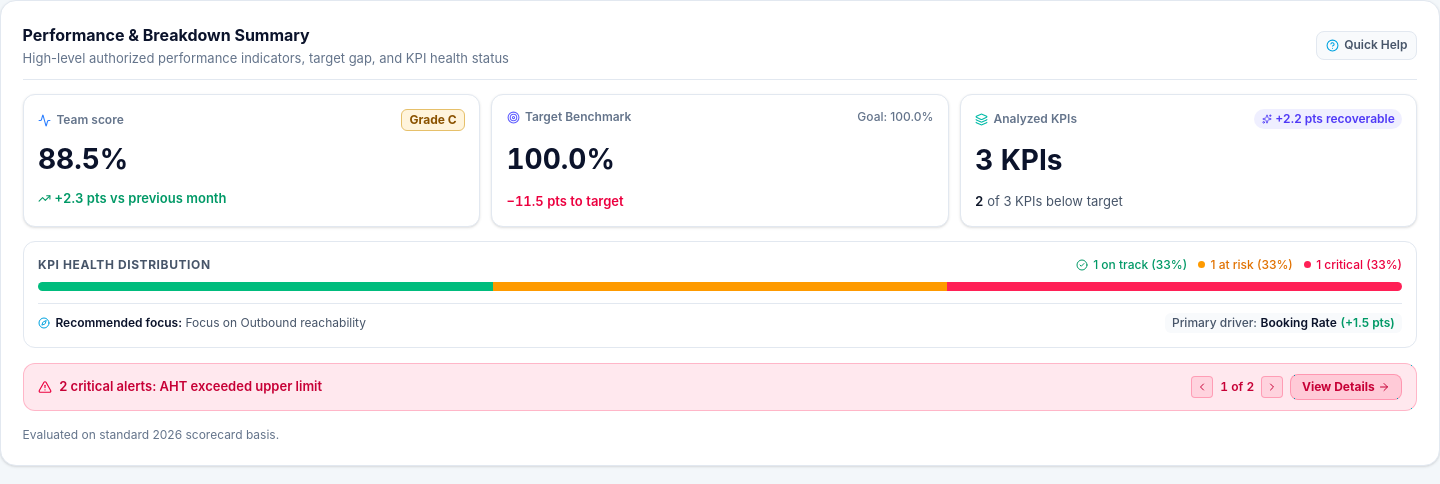
it: InsightsSummaryStrip (High-Level Performance & Breakdown Summary) › cycles through multiple critical alerts using next and previous buttons
The image size is (1440, 484).
Check: the text "2 critical alerts: AHT exceeded upper limit" is shown, box [59,378,322,394]
Check: the text "1 of 2" is shown, box [1220,379,1254,394]
// Click Next
Click the button named "Next alert".
click(1272, 387)  # box [1261,376,1283,398]
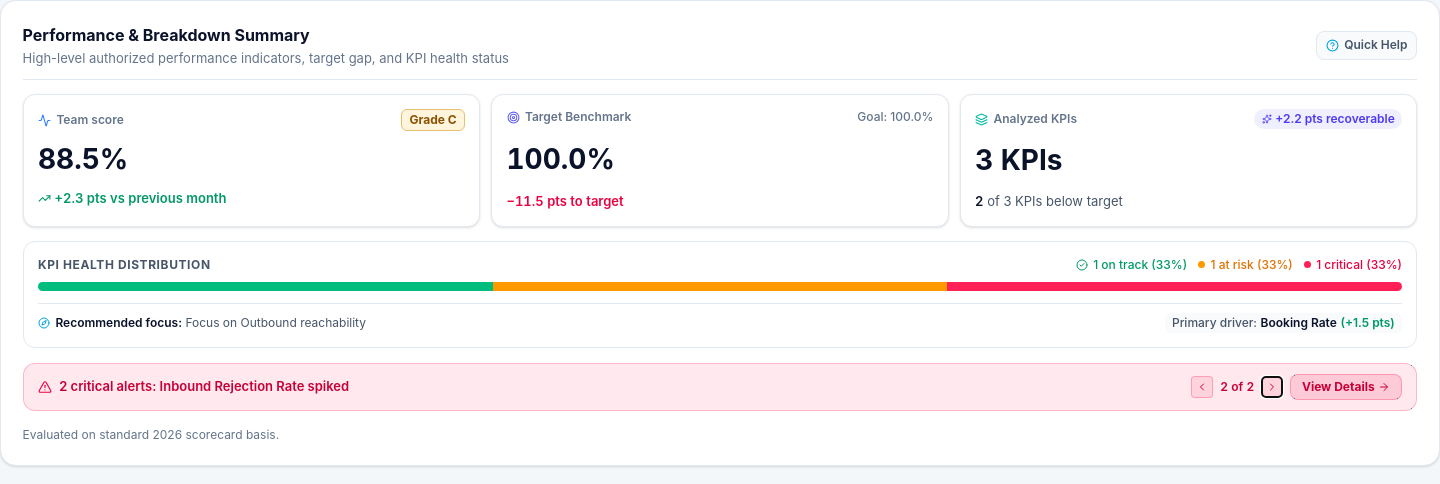
Check: the text "2 critical alerts: Inbound Rejection Rate spiked" is shown, box [59,378,349,394]
Check: the text "2 of 2" is shown, box [1220,379,1254,394]
// Click View Details on second alert
Click the button "View Details".
click(1346, 387)  # box [1290,374,1402,400]
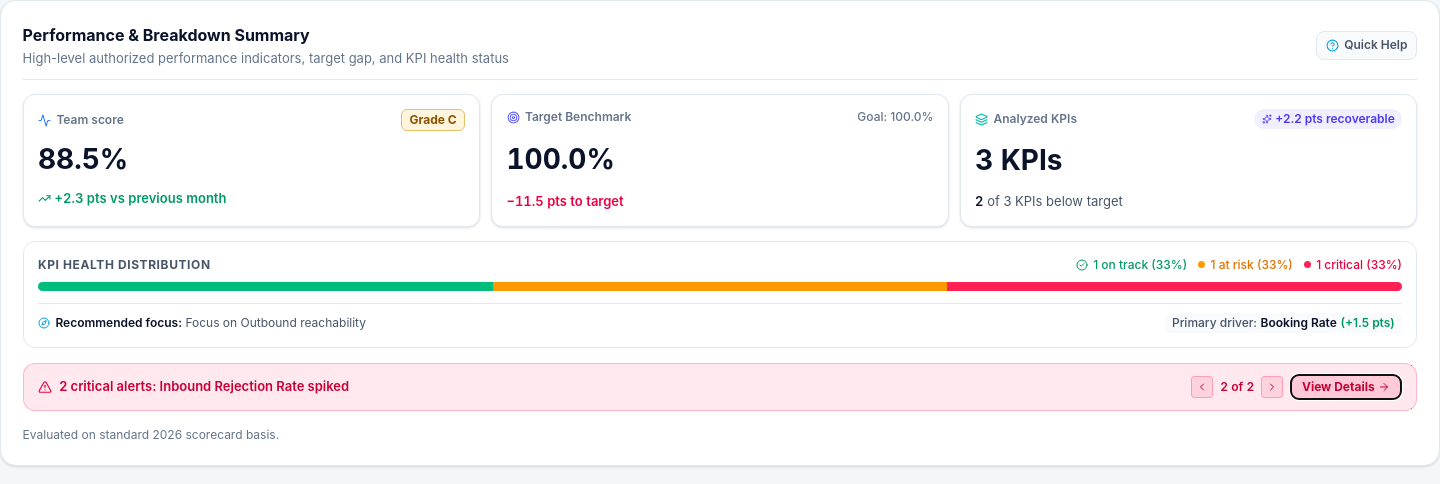
// Click Prev
Click the button named "Previous alert".
click(1202, 387)  # box [1191,376,1213,398]
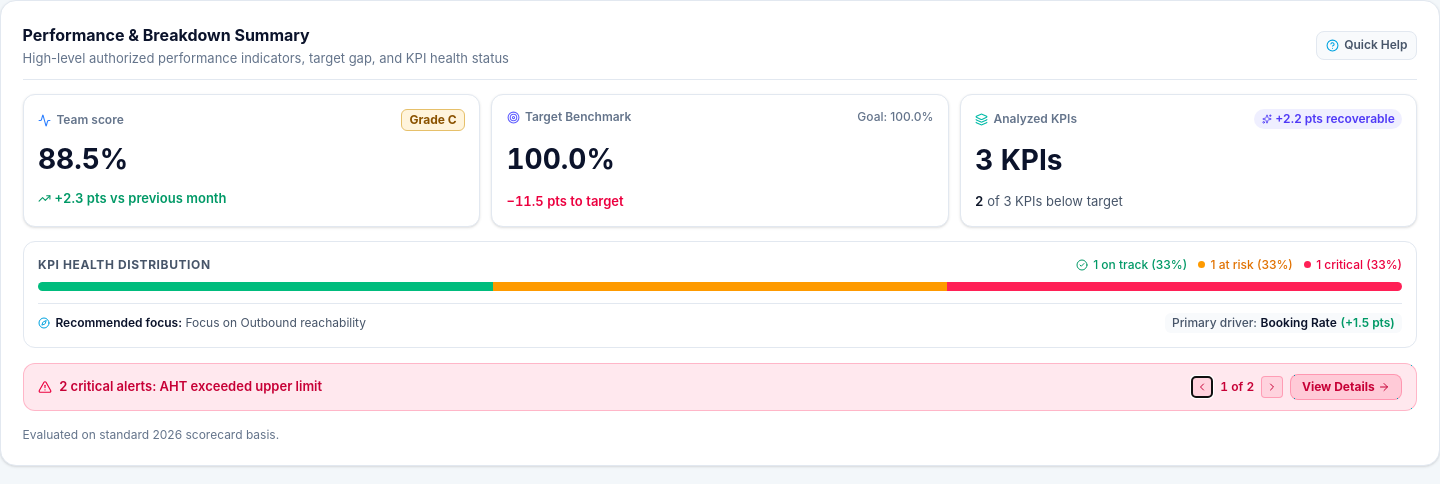
Check: the text "2 critical alerts: AHT exceeded upper limit" is shown, box [59,378,322,394]
Check: the text "1 of 2" is shown, box [1220,379,1254,394]
